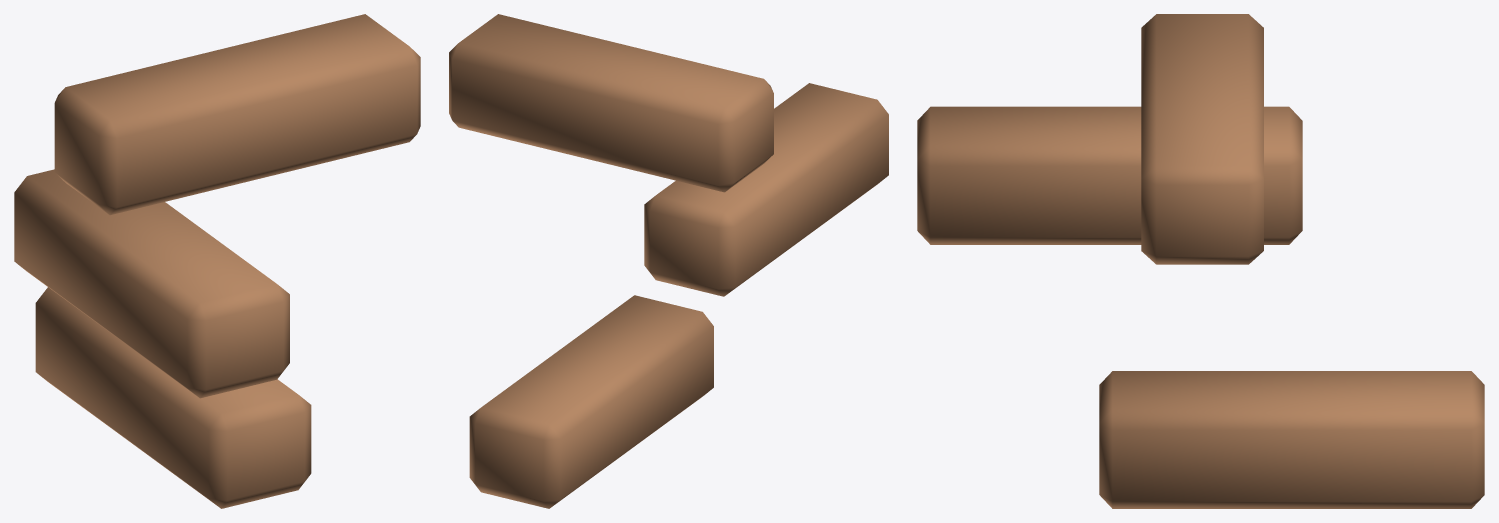
Rendered from bricks.glb.
3 views of the same model, side by side, from view 1: azimuth 30°, elevation 25°; view 2: azimuth 150°, elevation 25°; view 3: azimuth 270°, elevation 25° (orthographic). The views are drawn at different scales.
Visible parts, largest first — view 1: brick3, brick2, brick1; view 2: brick3, brick1, brick2; view 3: brick1, brick2, brick3.
Boxes of the visible parts, left/top/right/bottom form: brick3: left=54, top=14, right=420, bottom=215; brick2: left=14, top=169, right=289, bottom=398; brick1: left=35, top=287, right=311, bottom=508; brick3: left=449, top=14, right=773, bottom=192; brick1: left=469, top=295, right=713, bottom=508; brick2: left=644, top=83, right=888, bottom=296; brick1: left=1099, top=371, right=1484, bottom=508; brick2: left=917, top=106, right=1302, bottom=244; brick3: left=1141, top=14, right=1263, bottom=264.
Size of the model in its own units: 0.123 by 0.1359 by 0.1703.
